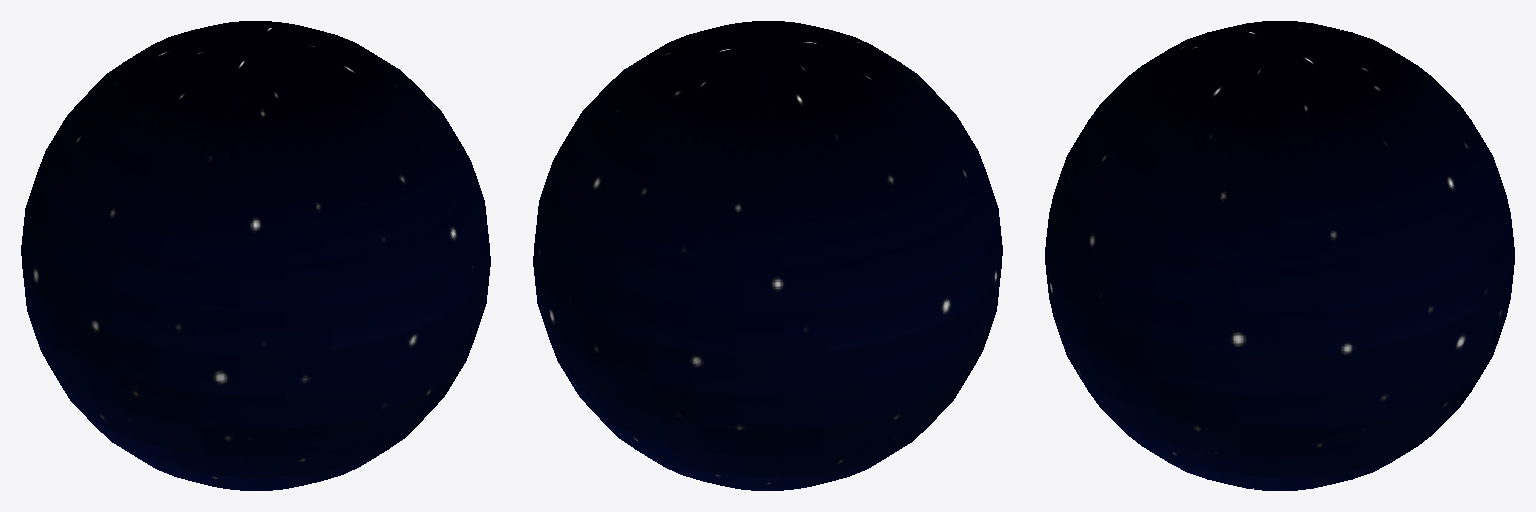
3 renders of one model, left to right at view 1: azimuth 30°, elevation 25°; view 2: azimuth 150°, elevation 25°; view 3: azimuth 270°, elevation 25°, orthographic.
Visible parts, largest first — view 1: 球; view 2: 球; view 3: 球.
Part boxes in pixels (left/top/right/bottom): 球: left=21, top=21, right=490, bottom=490; 球: left=533, top=21, right=1002, bottom=490; 球: left=1045, top=21, right=1514, bottom=490.
Size of the model in its own units: 1000 by 1000 by 1000.
Materials: 1 (1 with a texture image).